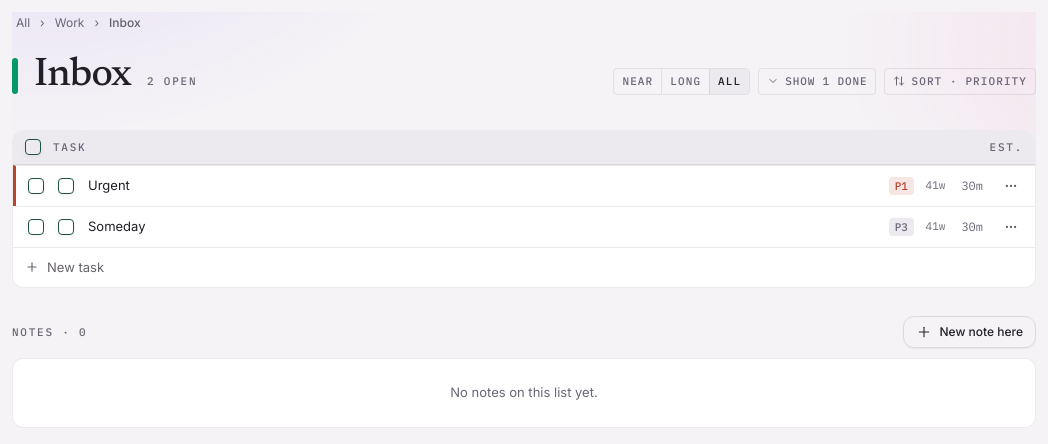
Test: SubcategoryView horizon (chunk 76) › Long hides a P1 row, keeps an undated P3 row, and the header follows; Show done still works
Expected: the heading "Inbox" is shown, [34,46,131,106]
Expected: the text "2 open" is shown, [147,73,197,90]
Click the radio button labelled "Long".
click(685, 81)  # box [661,69,709,94]
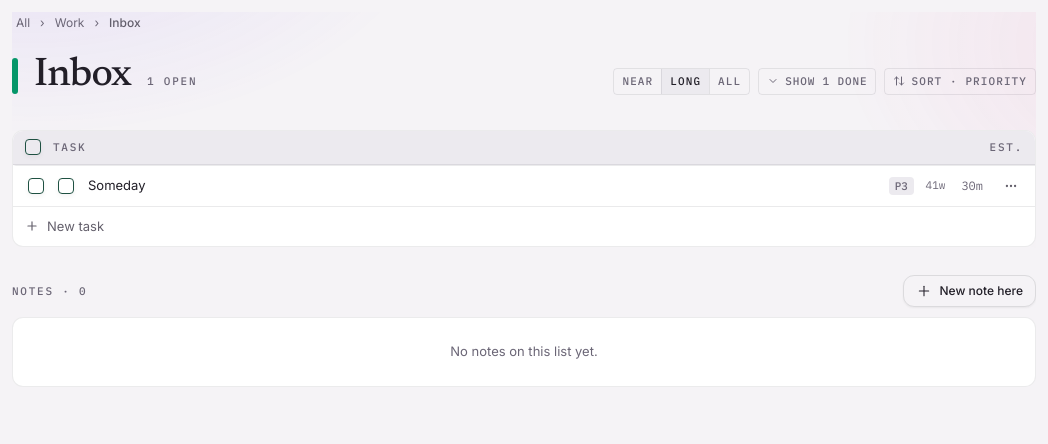
Expected: the text "Someday" is shown, [88,177,146,193]
Expected: the button "Urgent" is gone
Expected: the text "1 open" is shown, [147,73,197,90]
Click the button "Show 1 done".
click(817, 81)  # box [758,68,876,94]
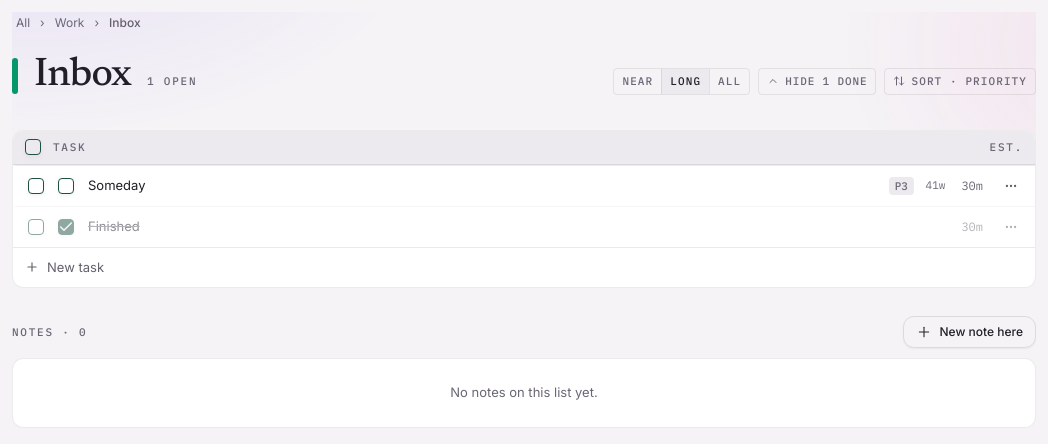
Expected: the button "Urgent" is not shown
Expected: the text "Finished" is shown, [88,218,140,234]
